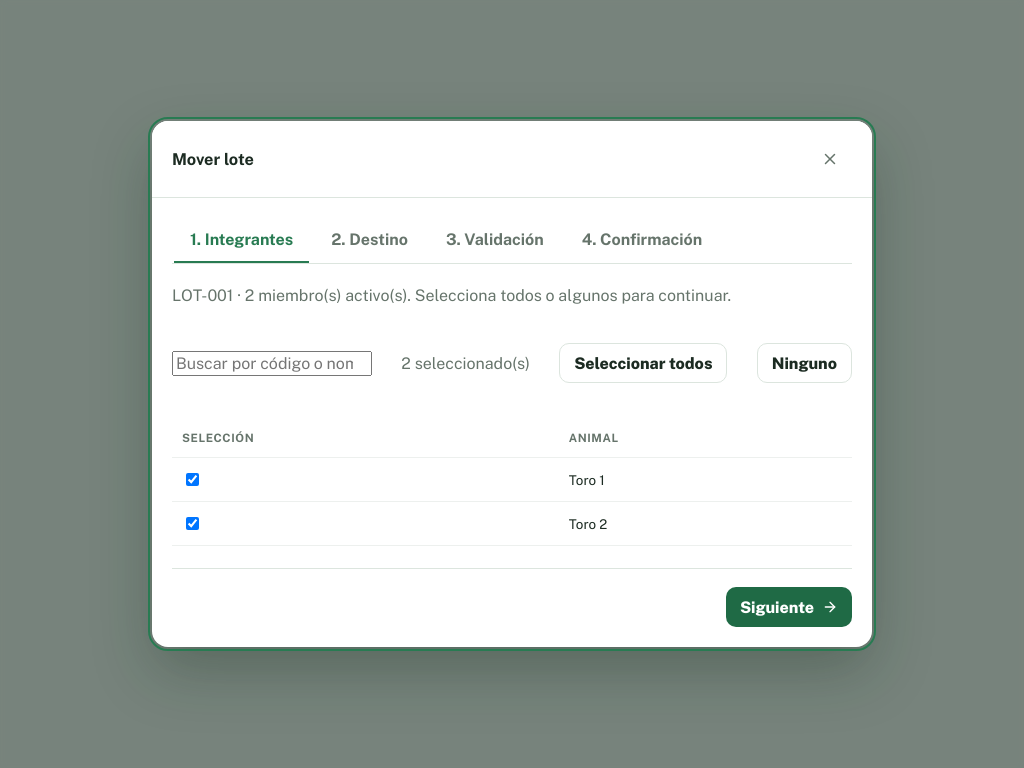
Test: MoverLoteWizard › exige autorizar advertencias sanitarias antes de continuar
Expected: the text "Toro 1" is shown, [559,458,852,502]
Click the button "Siguiente": [789, 607] box [726,587,852,627]
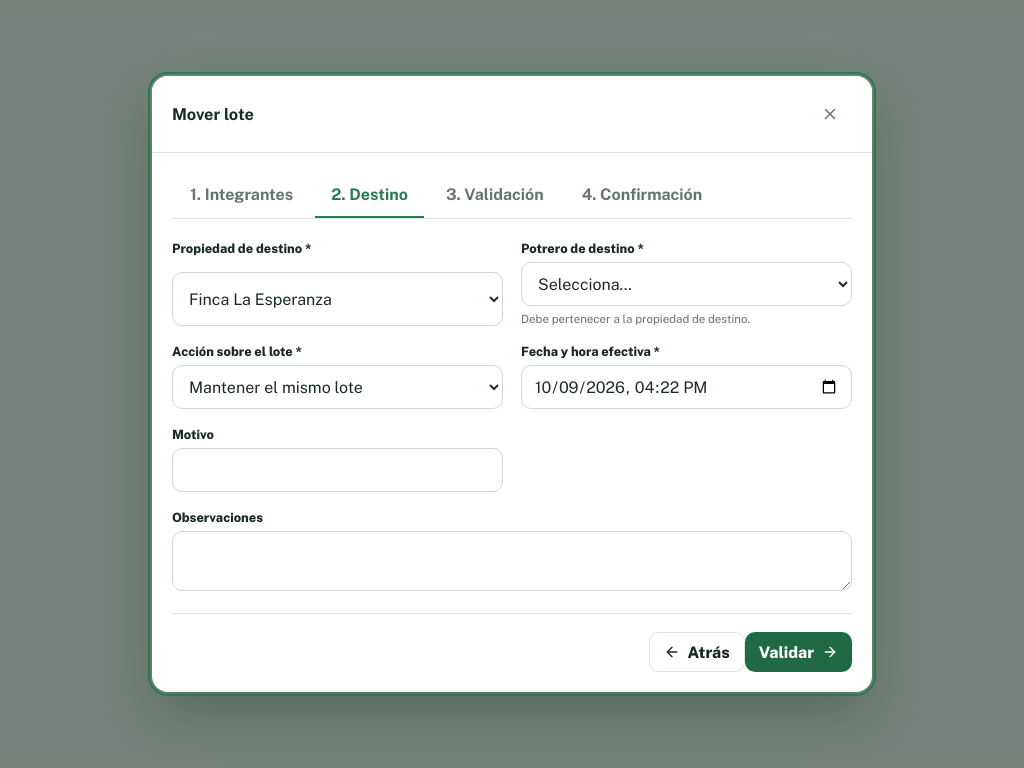
Expected: the dropdown labelled "Propiedad de destino *" is shown, [173,278,502,320]
Select "Potrero Norte" in the dropdown labelled "Potrero de destino *": [686, 284] box [522,264,851,304]
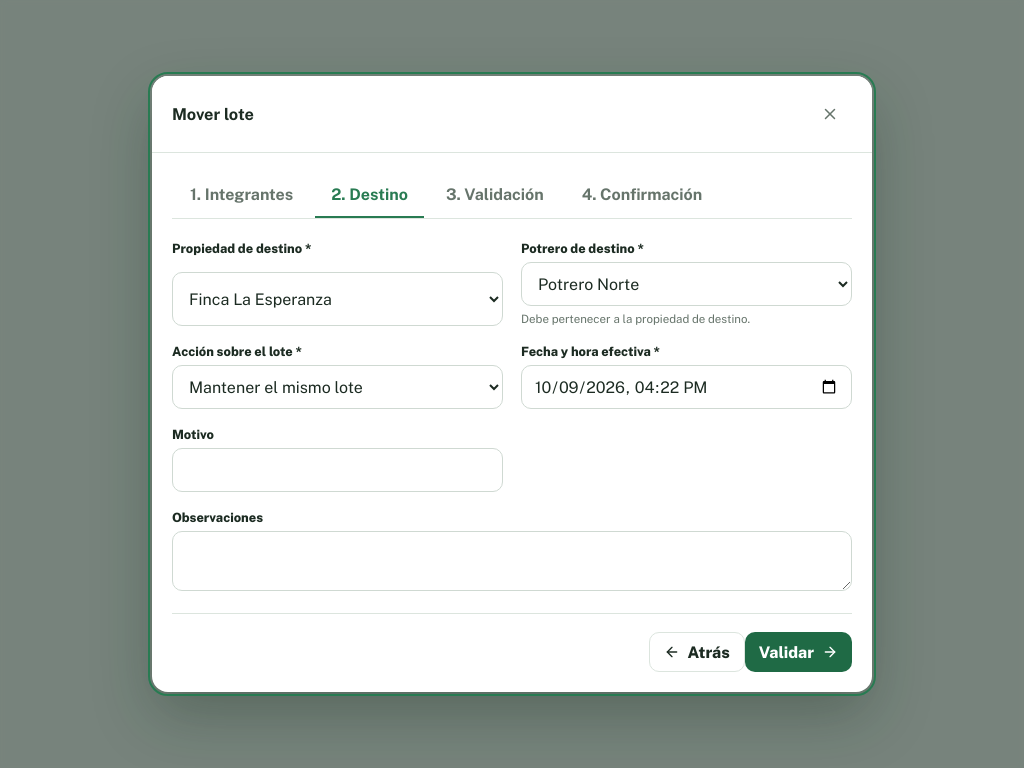
Click the button "Validar": [798, 652] box [745,632,852,672]
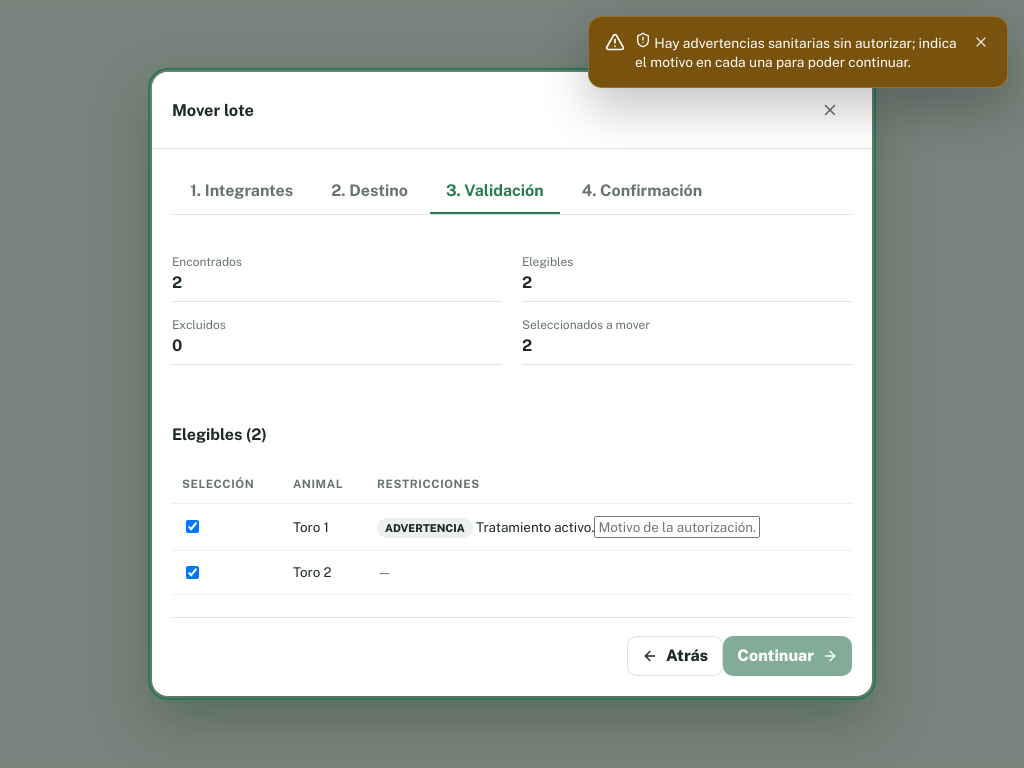
Expected: the heading "Elegibles (2)" is shown, [172,424,267,444]
Expected: the button "Continuar" is disabled, [723,636,852,676]
In the field named "Motivo de autorización para ANI-1: TRATAMIENTO_ACTIVO": [677, 527] box [594,516,760,538], type "Autorizado por el encargado"
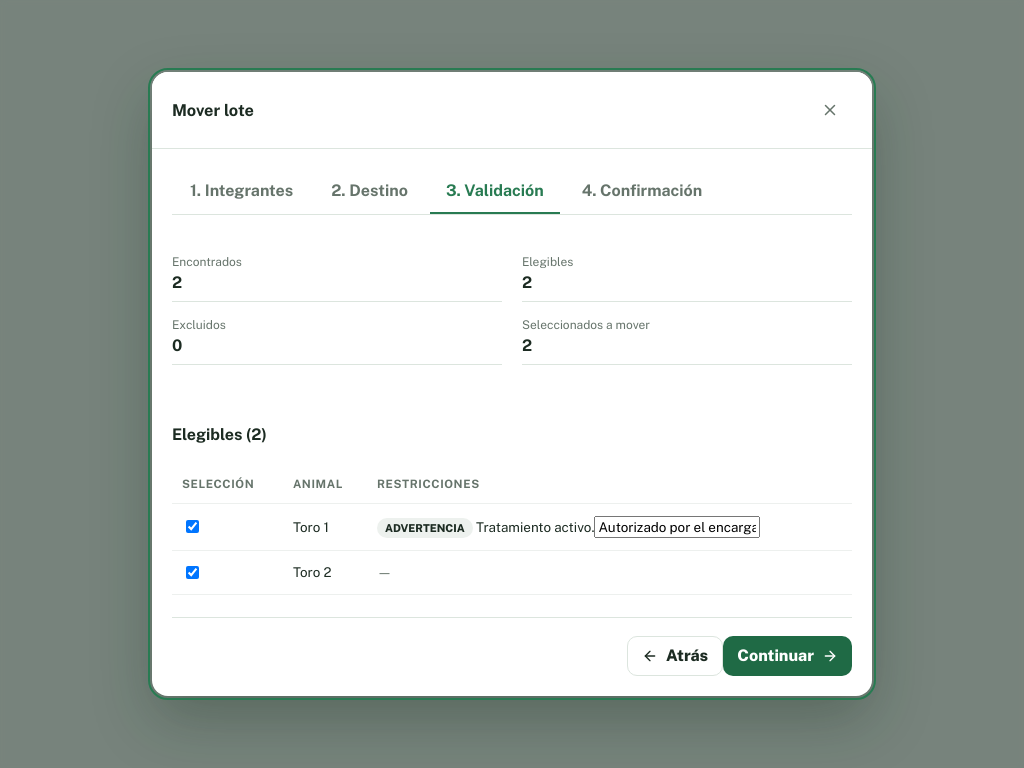
Expected: the button "Continuar" is enabled, [723,636,852,676]
